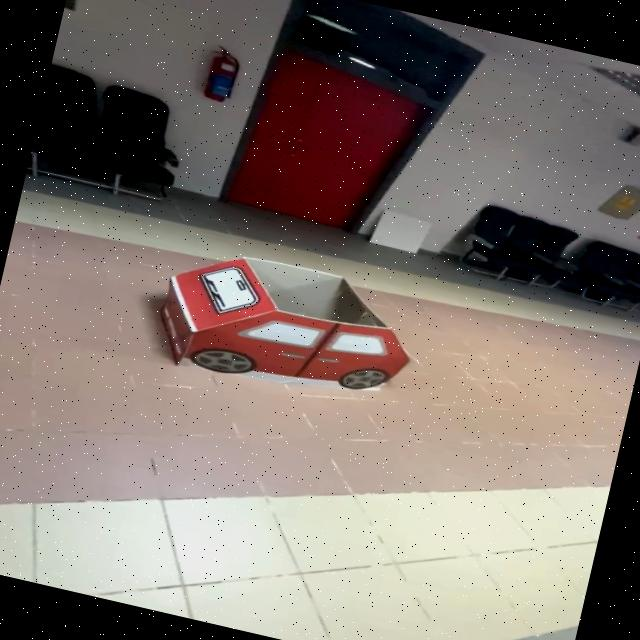red_car: (108, 214, 469, 448)
